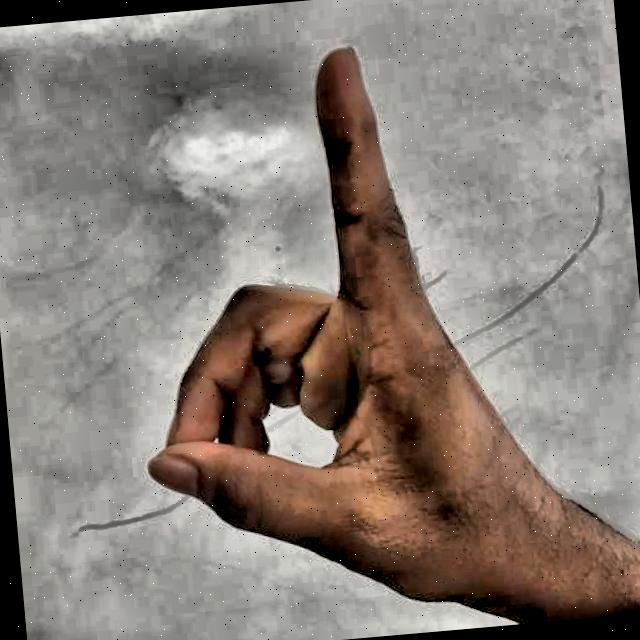Dha: (105, 13, 583, 640)
